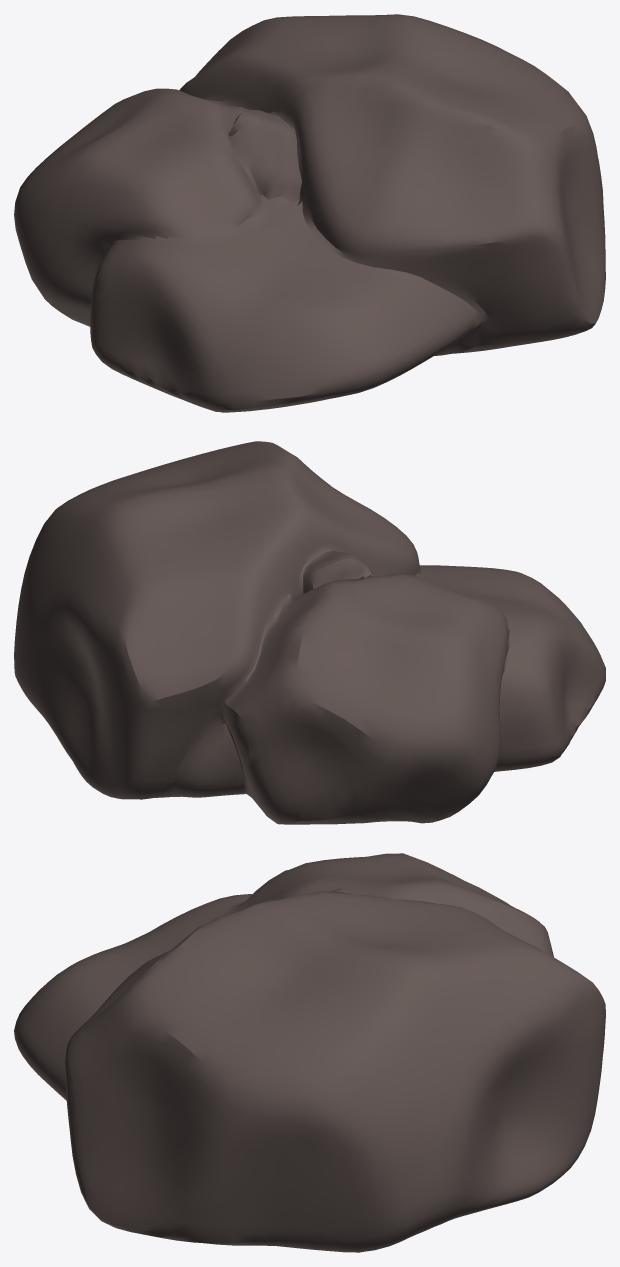
File: Environment_Cliff1.glb
The picture shows the model from 3 angles, top to bottom: view 1: azimuth 30°, elevation 25°; view 2: azimuth 150°, elevation 25°; view 3: azimuth 270°, elevation 25°; orthographic projection. The views are drawn at different scales.
Visible parts, largest first — view 1: Environment_Cliff1; view 2: Environment_Cliff1; view 3: Environment_Cliff1.
Boxes of the visible parts, x1,y1,x2,y2 form: Environment_Cliff1: (14,14,605,412); Environment_Cliff1: (14,441,605,824); Environment_Cliff1: (14,853,605,1252).
Bounding box in the file's own units: 5.63 × 2.96 × 5.41.
1 material, 1 textured.
